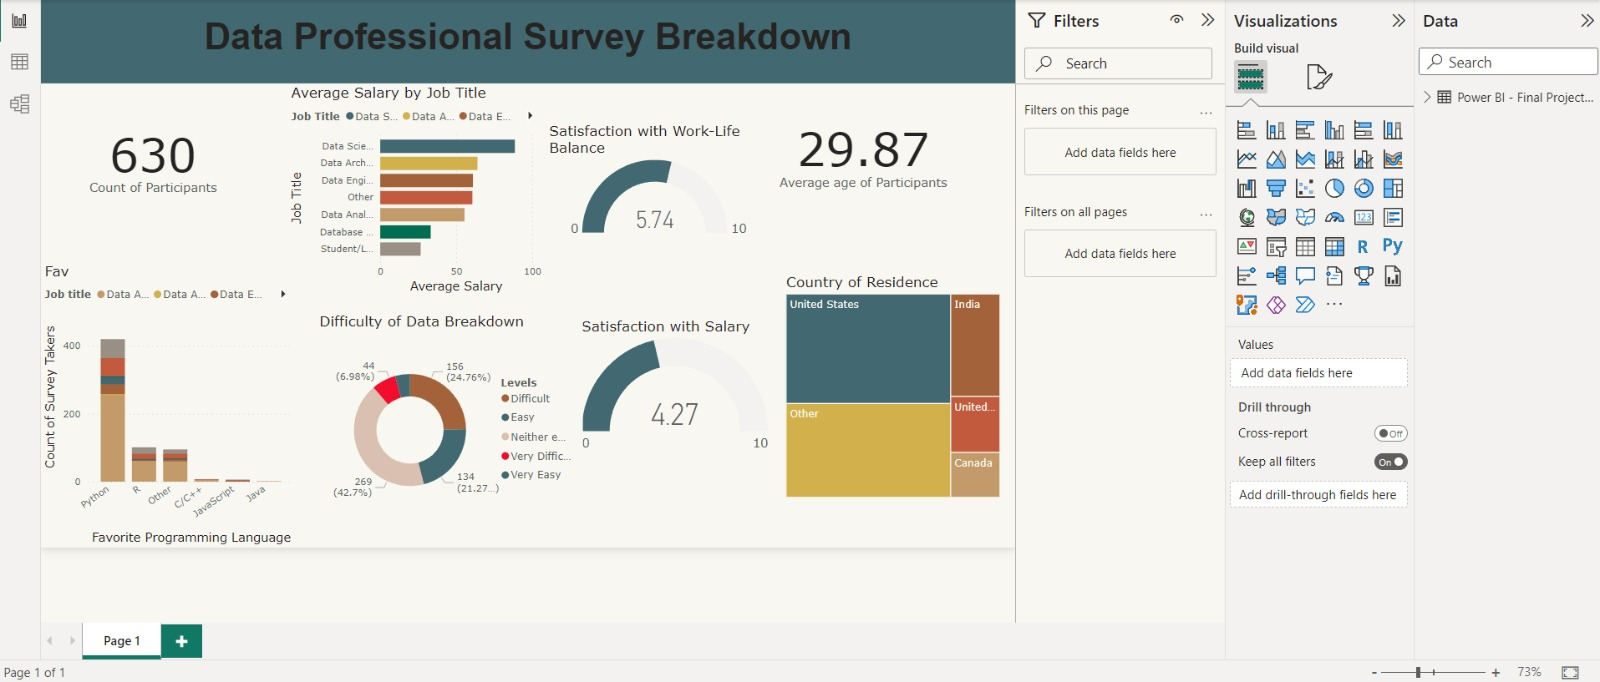

Layout of this report page (visuals, bound fields, positions):
{"tool":"powerbi","page":{"name":"Page 1","canvas":[1280,720],"ordinal":0},"visuals":[{"type":"textbox","box":[0,0,1280.3,109.8],"z":0},{"type":"card","fields":{"Values":["Count(Power BI - Final Projectcsv.Unique ID)"]},"box":[23.3,134.5,248.4,149.6],"z":1000},{"type":"card","fields":{"Values":["Avg(Power BI - Final Projectcsv.Q10 - Current Age)"]},"box":[960.6,134.5,240.1,135.8],"z":2000},{"type":"barChart","title":"Average Salary by Job Title","fields":{"Category":["Power BI - Final Projectcsv.Q1 - Which Title Best Fits your Current Role?.1"],"Y":["Avg(Power BI - Final Projectcsv.Average Salary)"],"Series":["Power BI - Final Projectcsv.Q1 - Which Title Best Fits your Current Role?.1"]},"box":[323.8,109.8,338.9,279.9],"z":3000},{"type":"columnChart","title":"Fav","fields":{"Category":["Power BI - Final Projectcsv.Q5 - Favorite Programming Language.1"],"Y":["CountNonNull(Power BI - Final Projectcsv.Unique ID)"],"Series":["Power BI - Final Projectcsv.Q1 - Which Title Best Fits your Current Role?.1"]},"box":[0,344.4,337.6,376],"z":4000},{"type":"treemap","title":"Country of Residence","fields":{"Group":["Power BI - Final Projectcsv.Q11 - Which Country do you live in?.1"],"Values":["CountNonNull(Power BI - Final Projectcsv.Q11 - Which Country do you live in?.1)"]},"box":[974.3,359.5,290.9,299.1],"z":5000},{"type":"gauge","title":"Satisfaction with Work-Life Balance","fields":{"Y":["Avg(Power BI - Final Projectcsv.Q6 - How Happy are you in your Current Position with the following? (Work/Life Balance))"],"MinValue":["Min(Power BI - Final Projectcsv.Q6 - How Happy are you in your Current Position with the following? (Work/Life Balance))"],"MaxValue":["Max(Power BI - Final Projectcsv.Q6 - How Happy are you in your Current Position with the following? (Work/Life Balance))"]},"box":[662.8,160.5,297.8,155.1],"z":6000},{"type":"gauge","title":"Satisfaction with Salary","fields":{"Y":["Avg(Power BI - Final Projectcsv.Q6 - How Happy are you in your Current Position with the following? (Salary))"],"MinValue":["Min(Power BI - Final Projectcsv.Q6 - How Happy are you in your Current Position with the following? (Salary))"],"MaxValue":["Max(Power BI - Final Projectcsv.Q6 - How Happy are you in your Current Position with the following? (Salary))1"]},"box":[705.3,417.2,255.2,183.9],"z":7000},{"type":"donutChart","title":"Difficulty of Data Breakdown","fields":{"Series":["Power BI - Final Projectcsv.Q7 - How difficult was it for you to break into Data?"],"Y":["CountNonNull(Power BI - Final Projectcsv.Q7 - How difficult was it for you to break into Data?)"]},"box":[360.9,410.3,351.3,288.2],"z":8000}]}

Visuals, with their boxes on the page's 1280x720 design canvas (x1, y1, x2, y2). These are canvas units, not pixel positions in the 1600x682 screenshot, which may show the page scaled, cropped or inside an application window:
textbox: 0,0,1280,110
card - Count(Power BI - Final Projectcsv.Unique ID): 23,134,272,284
card - Avg(Power BI - Final Projectcsv.Q10 - Current Age): 961,134,1201,270
"Average Salary by Job Title" barChart: 324,110,663,390
"Fav" columnChart: 0,344,338,720
"Country of Residence" treemap: 974,360,1265,659
"Satisfaction with Work-Life Balance" gauge: 663,160,961,316
"Satisfaction with Salary" gauge: 705,417,960,601
"Difficulty of Data Breakdown" donutChart: 361,410,712,698
